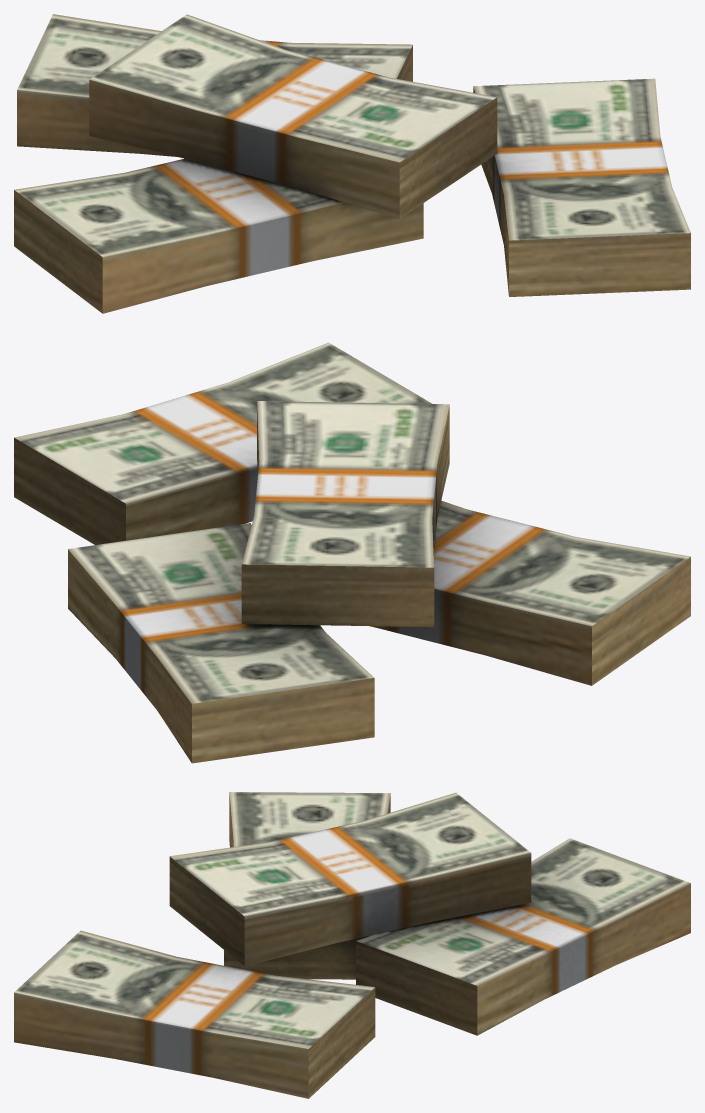
The model's file is Loot_cash_01.FBX.
3 views of the same model, one above another, from view 1: azimuth 30°, elevation 25°; view 2: azimuth 150°, elevation 25°; view 3: azimuth 270°, elevation 25° (orthographic). The views are drawn at different scales.
Visible parts, largest first — view 1: Loot_cash_01; view 2: Loot_cash_01; view 3: Loot_cash_01.
Boxes of the visible parts, x1,y1,x2,y2 form: Loot_cash_01: (14,14,690,313); Loot_cash_01: (14,342,690,763); Loot_cash_01: (14,792,690,1098).
Size of the model in its own units: 25.37 by 4.55 by 28.23.
